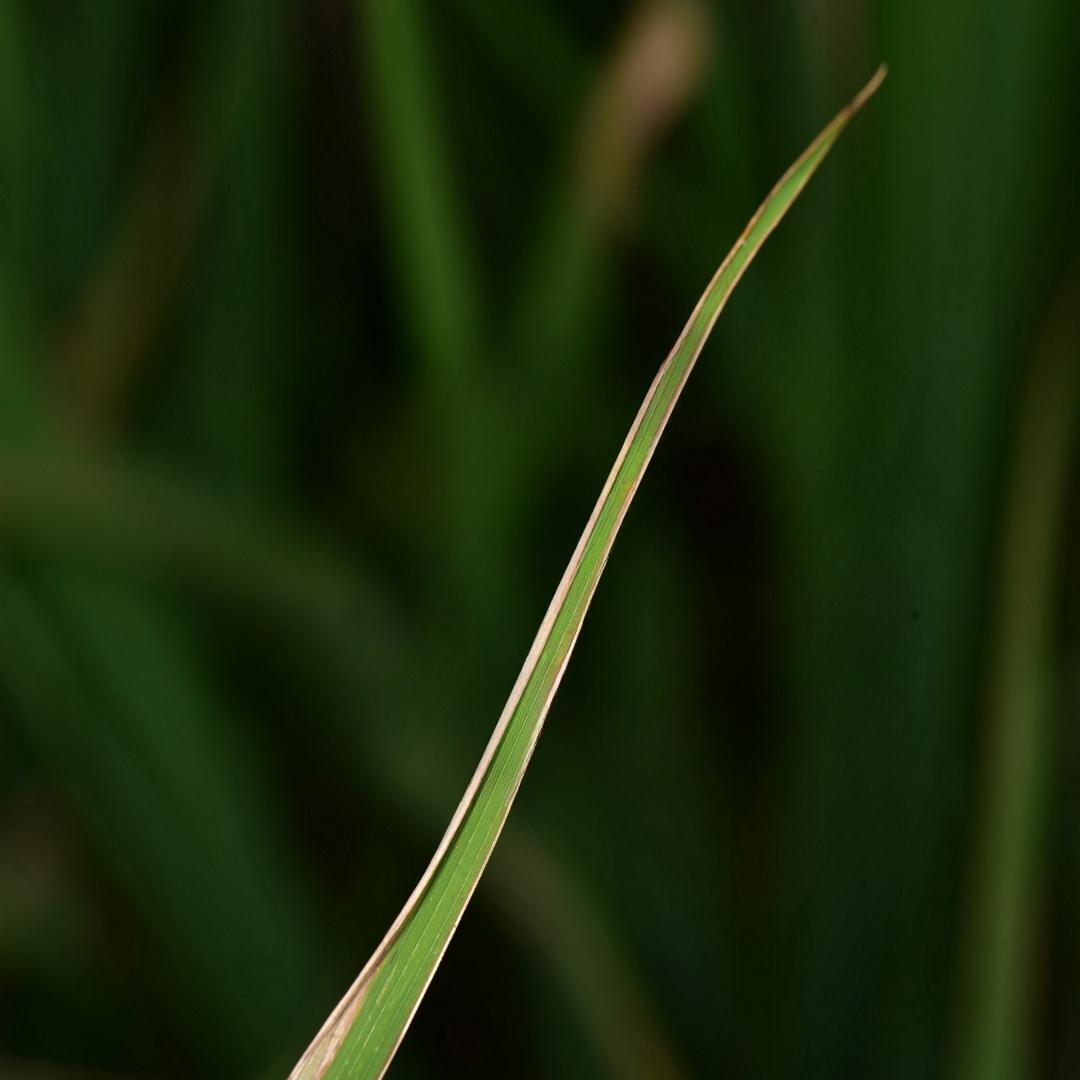BLB: (290, 66, 886, 1079)
LEAF: (288, 64, 887, 1079)
